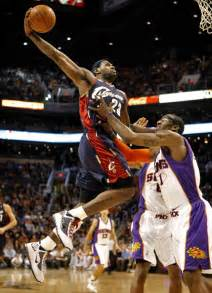basketball: (27, 3, 56, 34)
